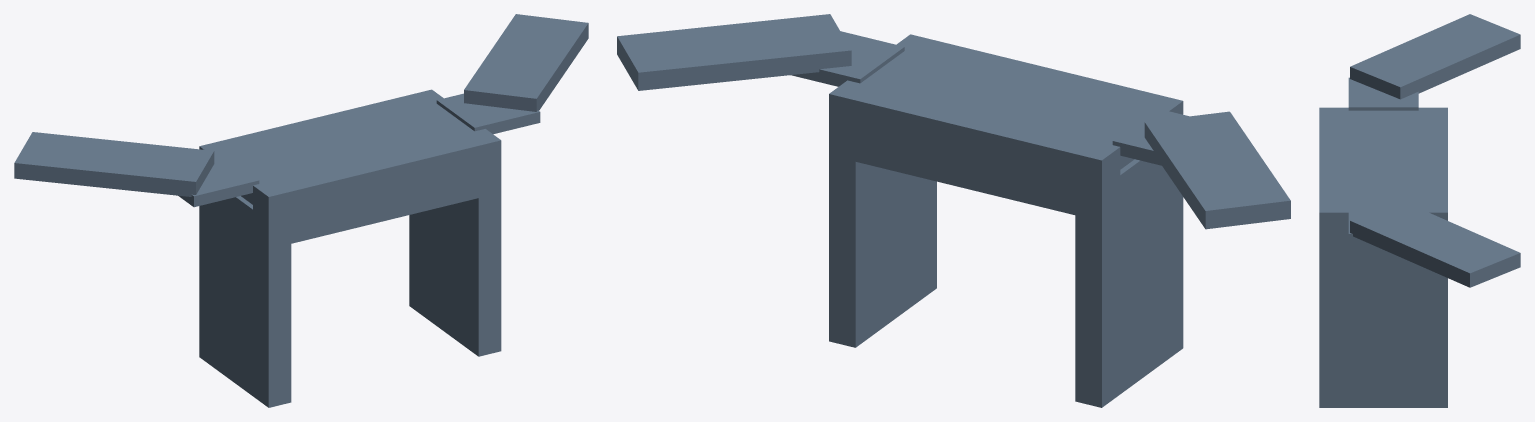
The model's file is PrimaryTable.glb.
The picture shows the model from 3 angles, left to right: view 1: azimuth 30°, elevation 25°; view 2: azimuth 150°, elevation 25°; view 3: azimuth 270°, elevation 25°; orthographic projection. The views are drawn at different scales.
Visible parts, largest first — view 1: Cube, Cube.003, Cube.002, Cube.001, Cube.004; view 2: Cube, Cube.002, Cube.003, Cube.001, Cube.004; view 3: Cube, Cube.002, Cube.003, Cube.004, Cube.001.
Part boxes in pixels (x1,y1,x2,y2): Cube: [199, 89, 501, 407]; Cube.003: [14, 132, 214, 196]; Cube.002: [464, 14, 588, 111]; Cube.001: [436, 93, 540, 134]; Cube.004: [178, 152, 259, 207]; Cube: [829, 34, 1183, 407]; Cube.002: [617, 14, 851, 90]; Cube.003: [1144, 111, 1290, 229]; Cube.001: [790, 31, 904, 86]; Cube.004: [1112, 108, 1188, 165]; Cube: [1319, 107, 1447, 407]; Cube.002: [1350, 200, 1520, 287]; Cube.003: [1350, 14, 1520, 99]; Cube.004: [1348, 77, 1418, 110]; Cube.001: [1348, 204, 1418, 244].
Bounding box in the file's own units: 2.67 × 1.01 × 0.8746.
